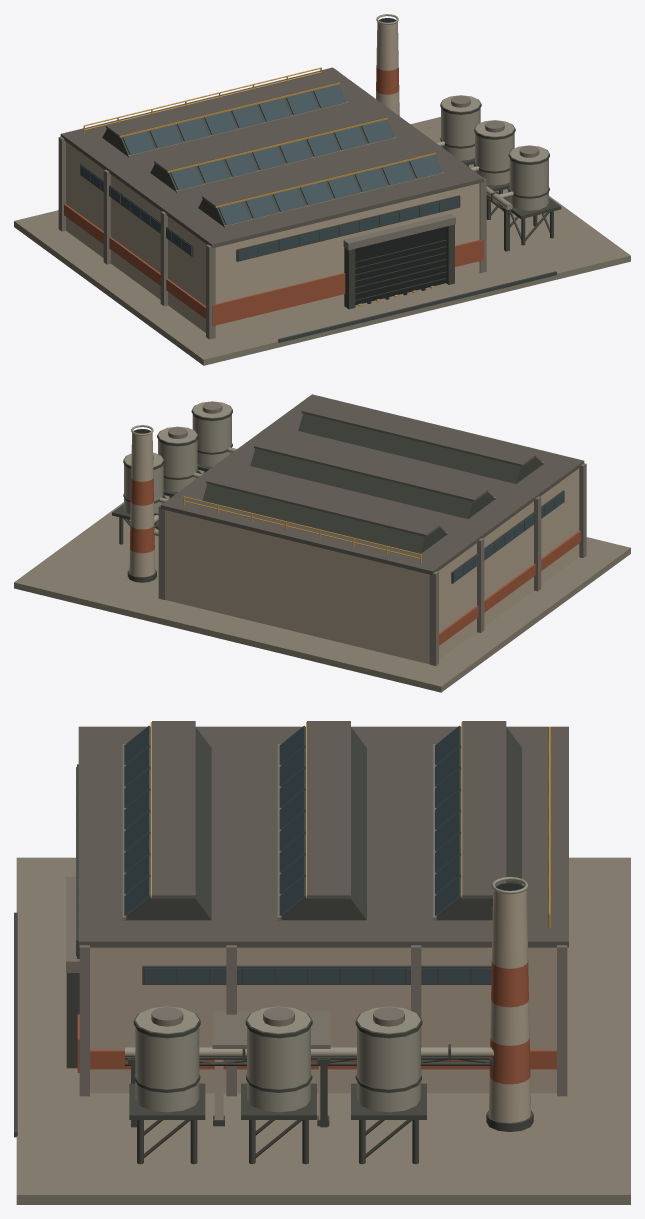
File: prototype.glb
3 views of the same model, one above another, from view 1: azimuth 30°, elevation 25°; view 2: azimuth 150°, elevation 25°; view 3: azimuth 270°, elevation 25° (orthographic). The views are drawn at different scales.
Visible parts, largest first — view 1: factory_surface_03, factory_surface_02, factory_surface_00, factory_surface_06, factory_surface_05, factory_surface_07, factory_surface_10, factory_surface_04, factory_surface_08, factory_surface_09, factory_surface_01; view 2: factory_surface_02, factory_surface_03, factory_surface_00, factory_surface_05, factory_surface_10, factory_surface_07, factory_surface_04, factory_surface_06, factory_surface_09; view 3: factory_surface_00, factory_surface_03, factory_surface_02, factory_surface_05, factory_surface_06, factory_surface_10, factory_surface_07, factory_surface_04, factory_surface_09, factory_surface_01.
Boxes of the visible parts, box(x1,y1,x2,y2) form: factory_surface_03: box(60, 67, 484, 248); factory_surface_02: box(66, 22, 479, 337); factory_surface_00: box(14, 117, 630, 365); factory_surface_06: box(80, 84, 458, 260); factory_surface_05: box(80, 84, 561, 309); factory_surface_07: box(58, 70, 539, 339); factory_surface_10: box(376, 14, 548, 210); factory_surface_04: box(64, 67, 483, 325); factory_surface_08: box(355, 18, 446, 305); factory_surface_09: box(83, 67, 435, 306); factory_surface_01: box(278, 271, 556, 342); factory_surface_02: box(129, 433, 579, 664); factory_surface_03: box(160, 394, 584, 575); factory_surface_00: box(14, 470, 630, 692); factory_surface_05: box(112, 403, 564, 583); factory_surface_10: box(124, 401, 236, 536); factory_surface_07: box(153, 398, 586, 665); factory_surface_04: box(130, 478, 580, 645); factory_surface_06: box(439, 457, 564, 582); factory_surface_09: box(183, 496, 421, 562); factory_surface_00: box(16, 857, 630, 1204); factory_surface_03: box(78, 721, 568, 947); factory_surface_02: box(90, 889, 556, 1122); factory_surface_05: box(66, 727, 533, 1164); factory_surface_06: box(76, 725, 491, 983); factory_surface_10: box(125, 877, 528, 1112); factory_surface_07: box(66, 744, 567, 1096); factory_surface_04: box(77, 961, 556, 1084); factory_surface_09: box(150, 722, 550, 927); factory_surface_01: box(14, 912, 17, 1137).
Bounding box in the file's own units: 26 × 8.94 × 20.09.
